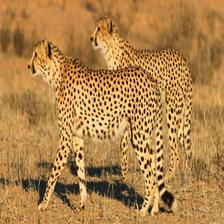Cheetah: (25, 39, 179, 220), (89, 15, 199, 191)
